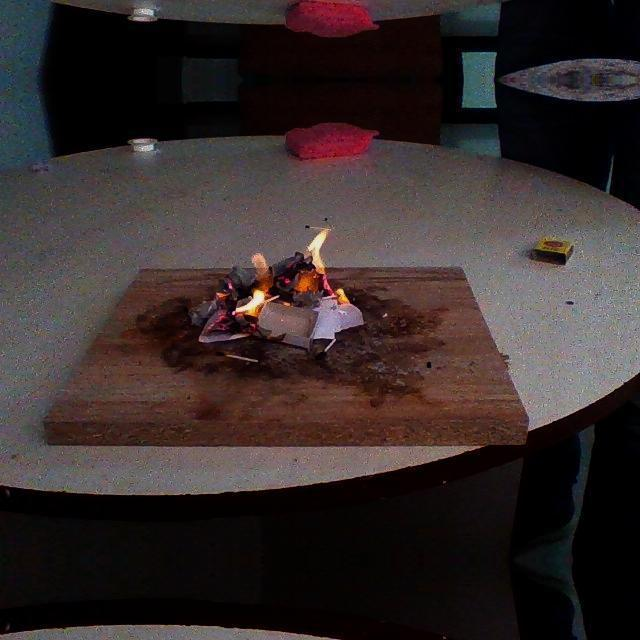smoke: (303, 230, 353, 306), (232, 250, 274, 314)
